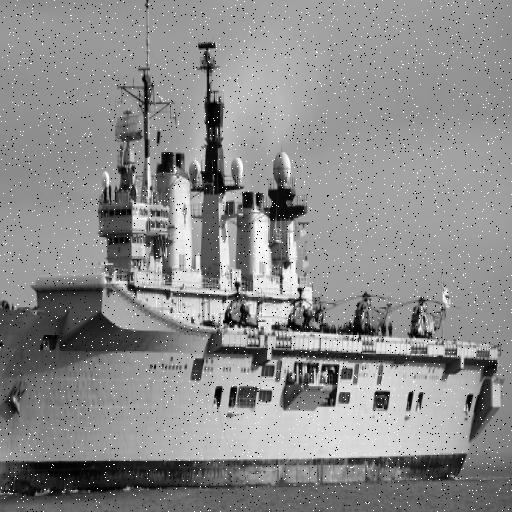Portanaves: (1, 1, 509, 508)
